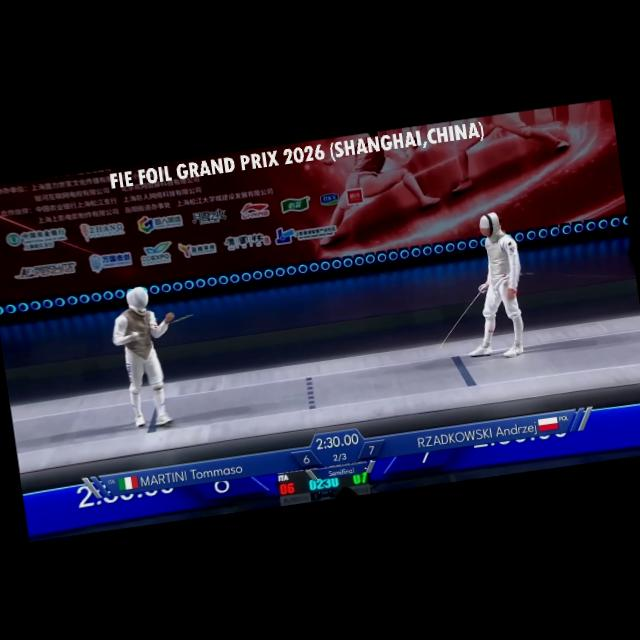blade: (426, 284, 499, 358), (126, 312, 202, 342)
